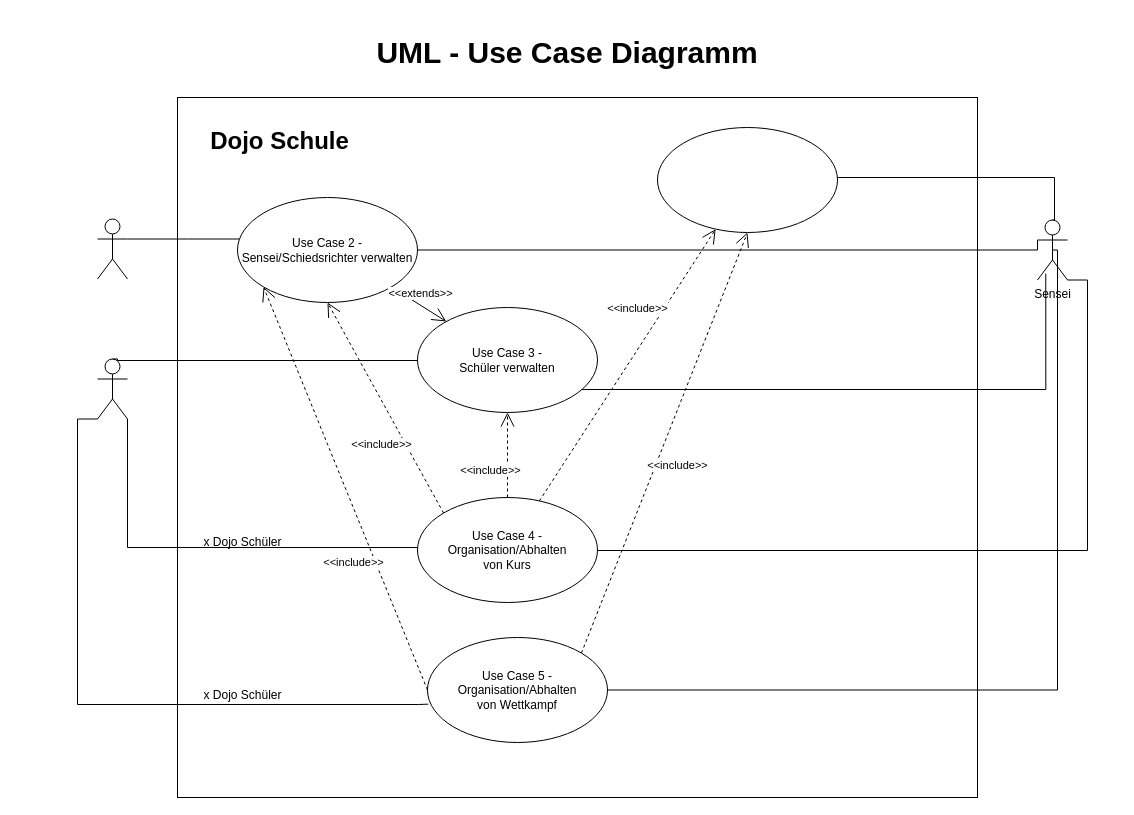
Image size: 1134x815. Some labels were removed from this diagram. The shapes that lost their labels are listed below. From the top down, each one's centre as x and y in pixels, then its label:
At (x=747, y=179): "Use Case 1 - Verwaltung von Stammdaten (Standort, Gürtelfarbe)".
At (x=112, y=248): "Schiedsrichter".
At (x=112, y=388): "Dojo Schüler".
